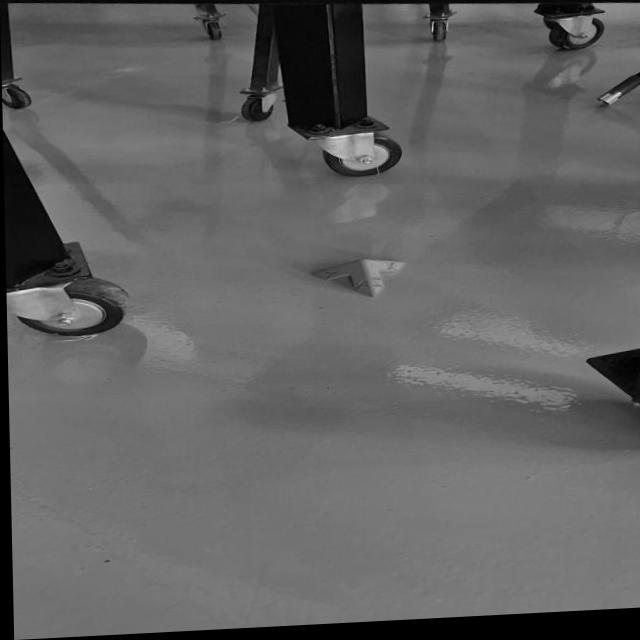eje: (309, 255, 409, 302)
